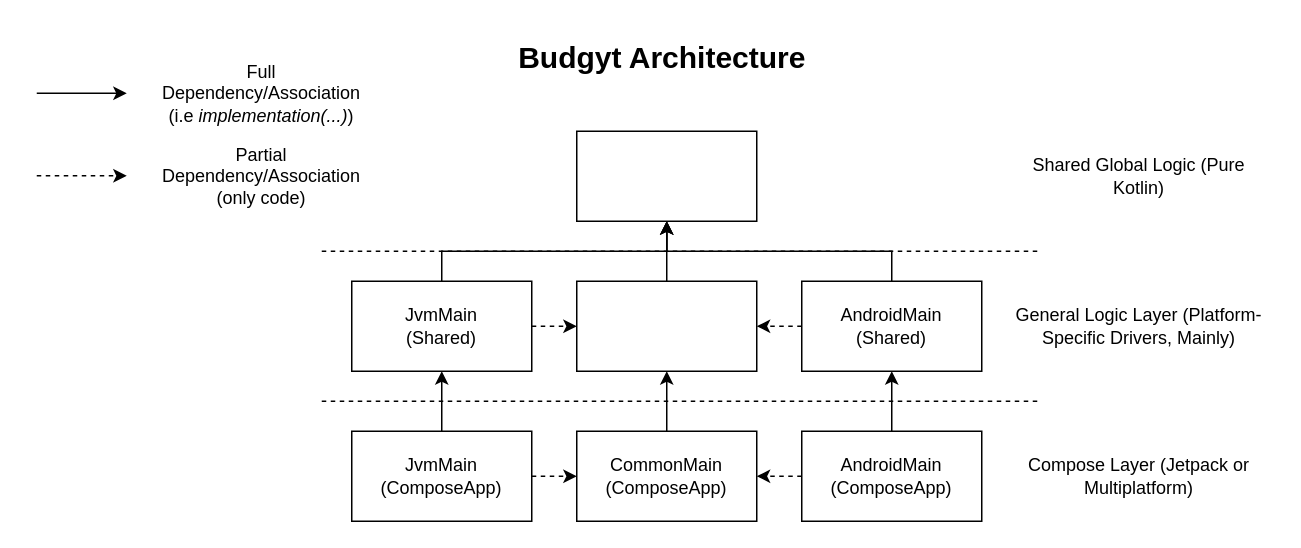
Some shapes in this 1301 by 548 pixel diagram are drawn without their labels. The shapes that lost their labels are listed below. From the top down, each one's centre as x and y in pixels, then its label:
At point 666,175: "Shared (Root)".
At point 666,325: "CommonMain (Shared)".
